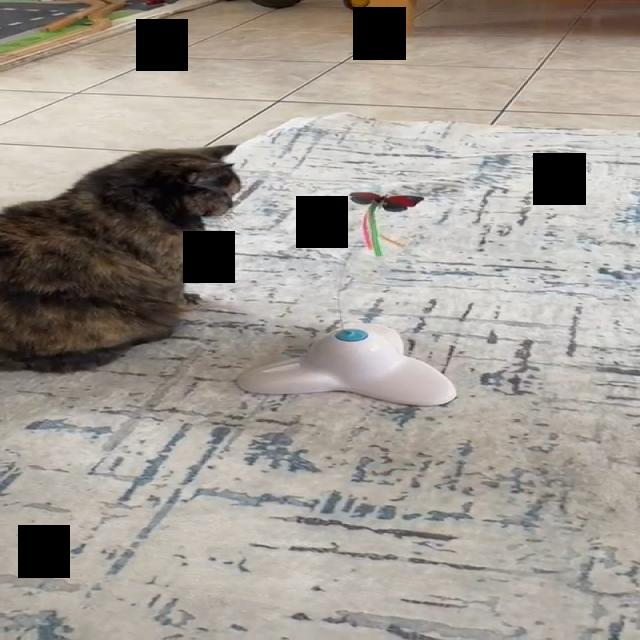authorized: (0, 144, 243, 374)
